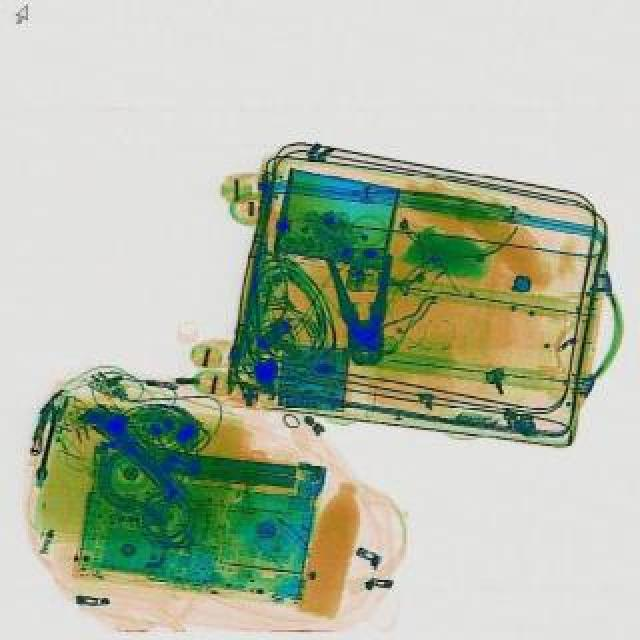wrench: (330, 254, 400, 366)
